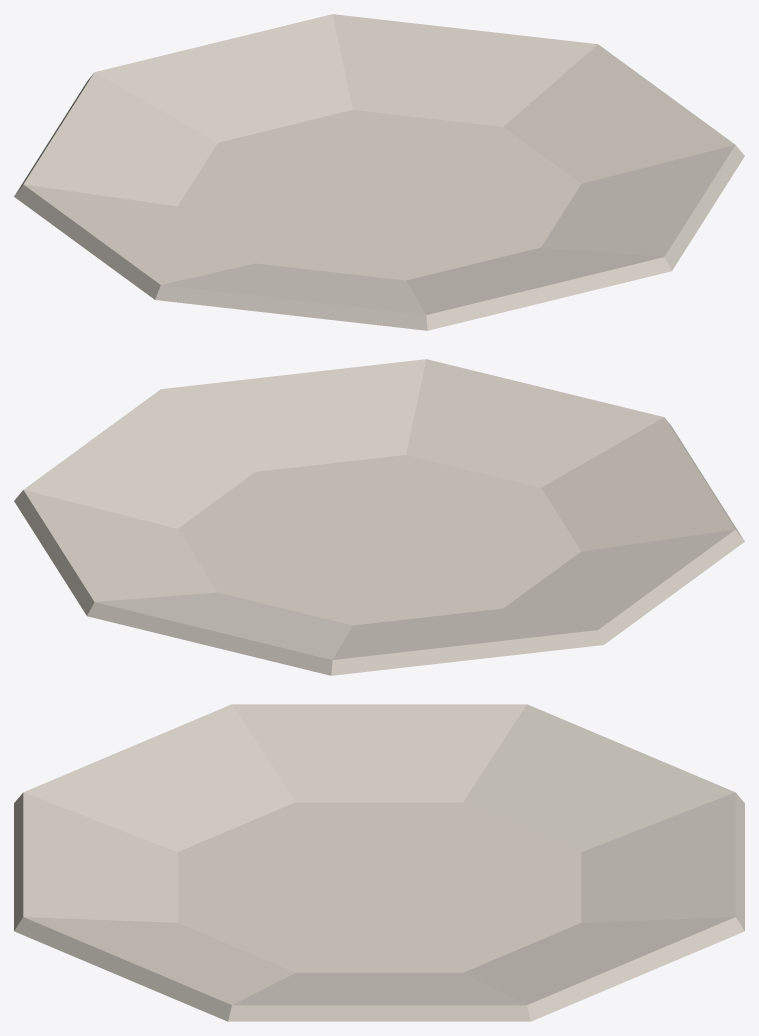
The model's file is SM_Prop_Plate_01.obj.
3 views of the same model, one above another, from view 1: azimuth 30°, elevation 25°; view 2: azimuth 150°, elevation 25°; view 3: azimuth 270°, elevation 25° (orthographic). The views are drawn at different scales.
Parts seen in each view (by area): view 1: SM_Prop_Plate_01_0; view 2: SM_Prop_Plate_01_0; view 3: SM_Prop_Plate_01_0.
Boxes of the visible parts, bbox=[...] form: SM_Prop_Plate_01_0: bbox=[14, 14, 744, 330]; SM_Prop_Plate_01_0: bbox=[14, 359, 744, 675]; SM_Prop_Plate_01_0: bbox=[14, 704, 744, 1021].
Bounding box in the file's own units: 0.4016 × 0.0332 × 0.4016.
Materials: 1 (1 with a texture image).
